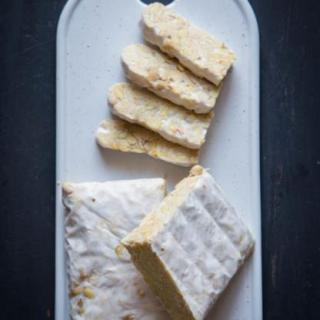Tempe: (94, 2, 240, 170), (61, 177, 170, 320)
